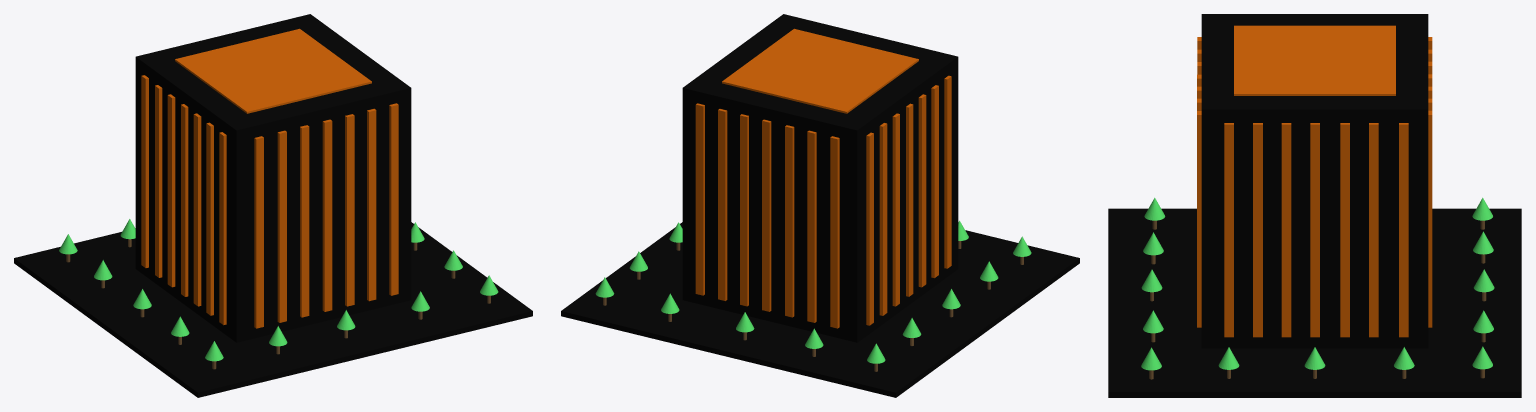
Rendered from datacenter_orange.glb.
The picture shows the model from 3 angles, left to right: view 1: azimuth 30°, elevation 25°; view 2: azimuth 150°, elevation 25°; view 3: azimuth 270°, elevation 25°; orthographic projection. The views are drawn at different scales.
Visible parts, largest first — view 1: stick.003; view 2: stick.003; view 3: stick.003.
Boxes of the visible parts, x1,y1,x2,y2 form: stick.003: (14, 14, 532, 397); stick.003: (561, 14, 1079, 397); stick.003: (1108, 14, 1521, 397).
Bounding box in the file's own units: 26.83 × 16.79 × 25.52.
